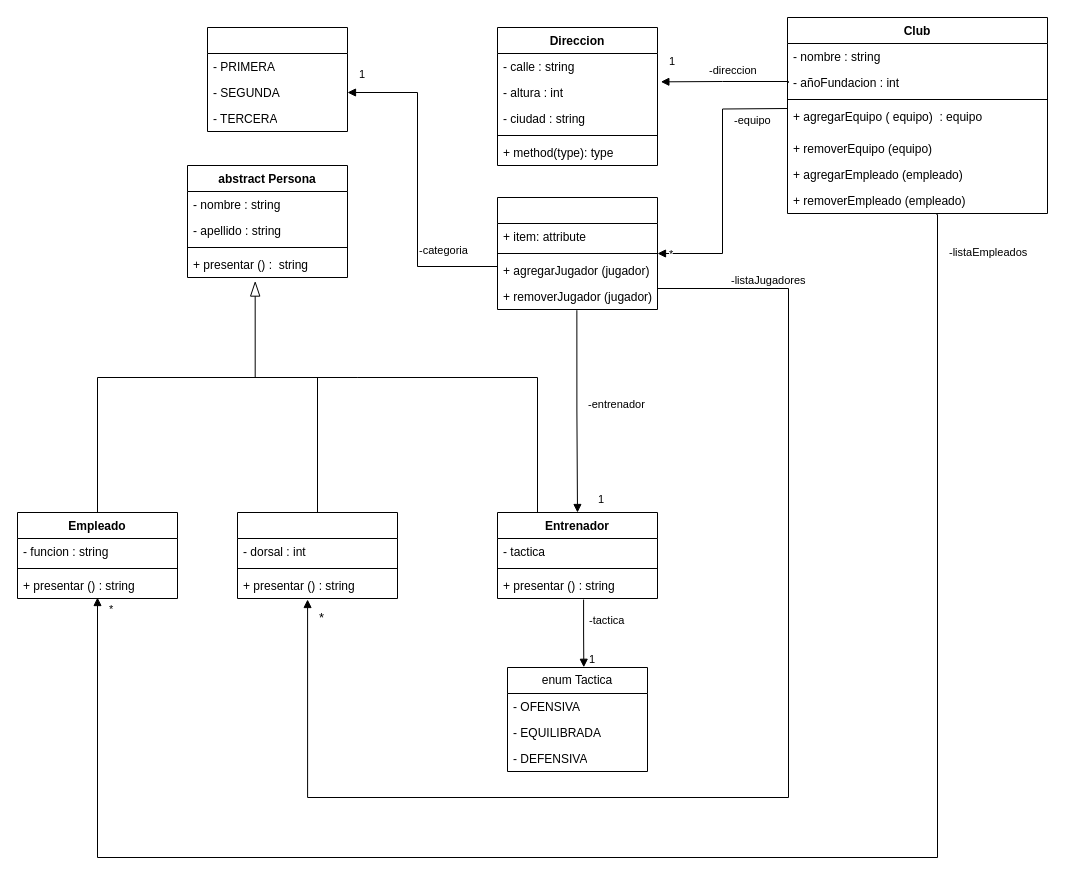
Some shapes in this 1065 by 883 pixel diagram are drawn without their labels. The box of each missing label's shape, as (x1, y1, x2, y2) in pixels:
enum Categoria: (206, 26, 348, 132)
Equipo: (496, 196, 658, 310)
Jugador: (236, 512, 398, 598)
